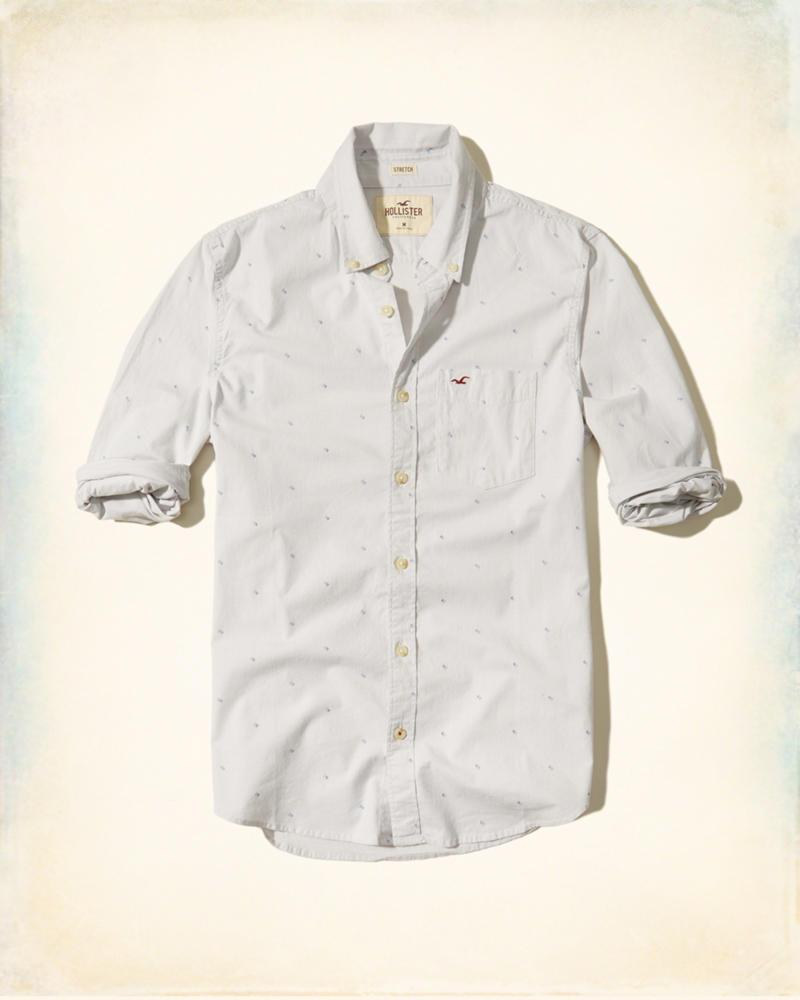teeshirt: (82, 115, 745, 869)
